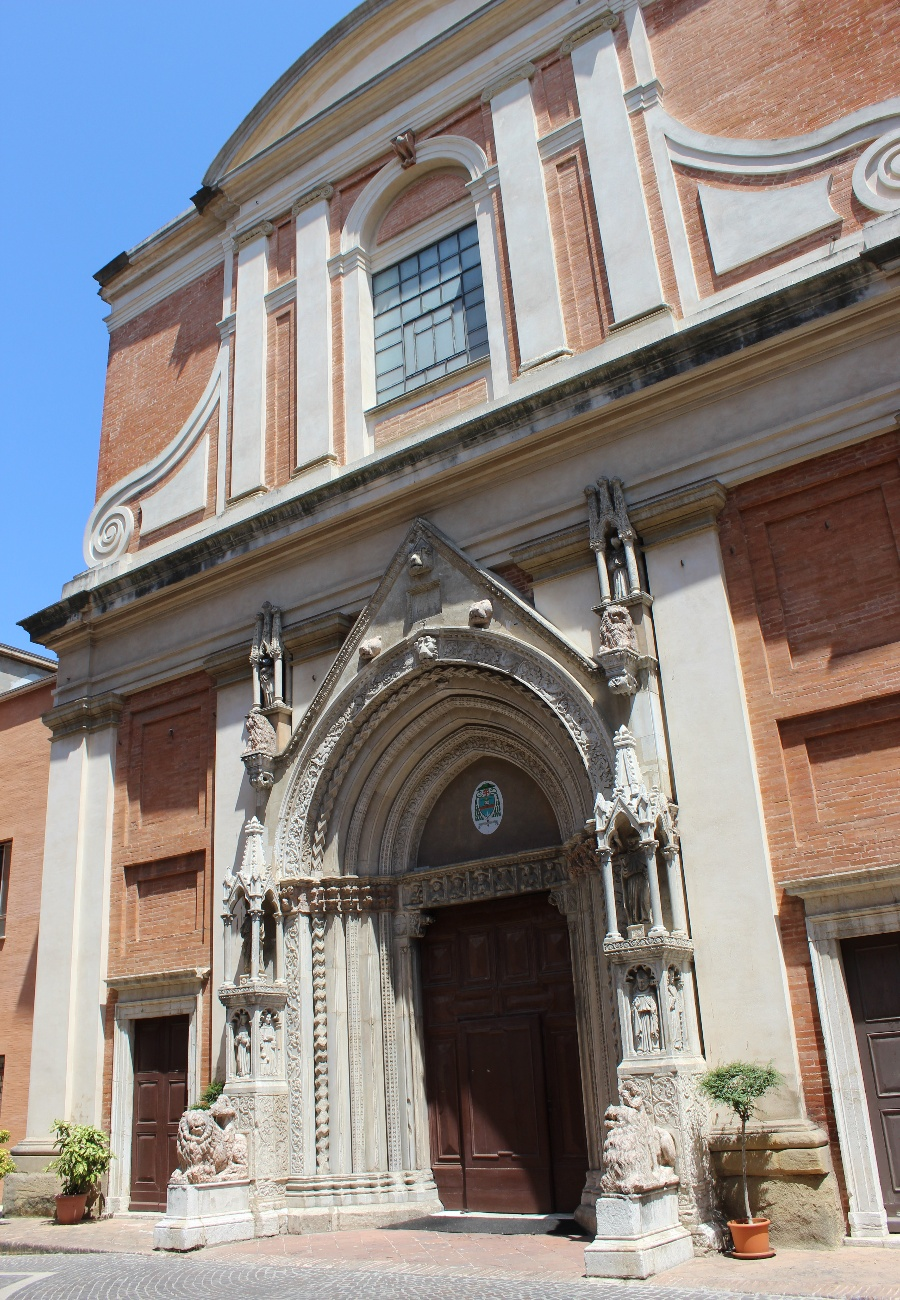Chiesa San Agostino: (26, 1, 900, 1271)
